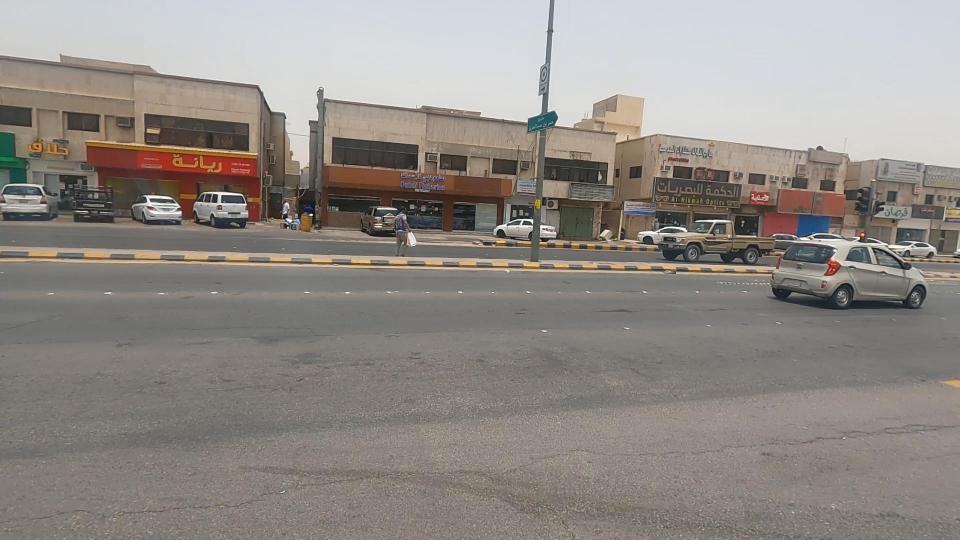BAD_BILLBOARD: (746, 164, 873, 230), (534, 165, 646, 221)
GARBAGE: (584, 215, 630, 257), (270, 210, 312, 238), (289, 198, 329, 226)
